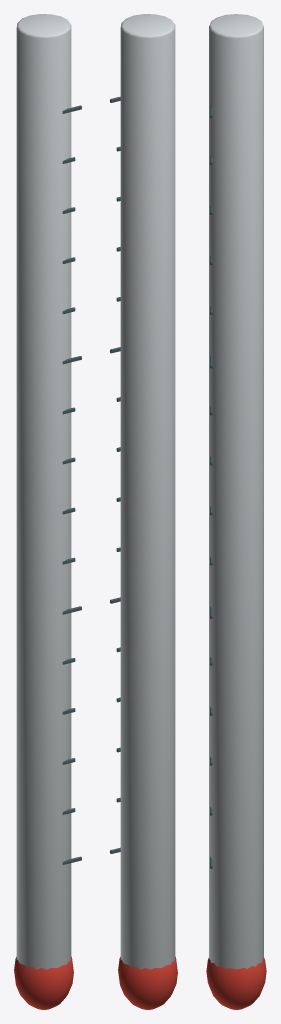
The model's file is lab-thermometer.glb.
3 views of the same model, side by side, from view 1: azimuth 30°, elevation 25°; view 2: azimuth 210°, elevation 25°; view 3: azimuth 270°, elevation 25° (orthographic).
Parts seen in each view (by area): view 1: Glass thermometer stem, Thermometer bulb; view 2: Glass thermometer stem, Thermometer bulb; view 3: Glass thermometer stem, Thermometer bulb.
Part boxes in pixels (x1,y1,x2,y2): Glass thermometer stem: (16, 14, 71, 969); Thermometer bulb: (14, 956, 73, 1009); Glass thermometer stem: (120, 14, 175, 969); Thermometer bulb: (118, 956, 177, 1009); Glass thermometer stem: (209, 14, 263, 969); Thermometer bulb: (206, 958, 266, 1009).
Bounding box in the file's own units: 0.024 × 0.432 × 0.024.
